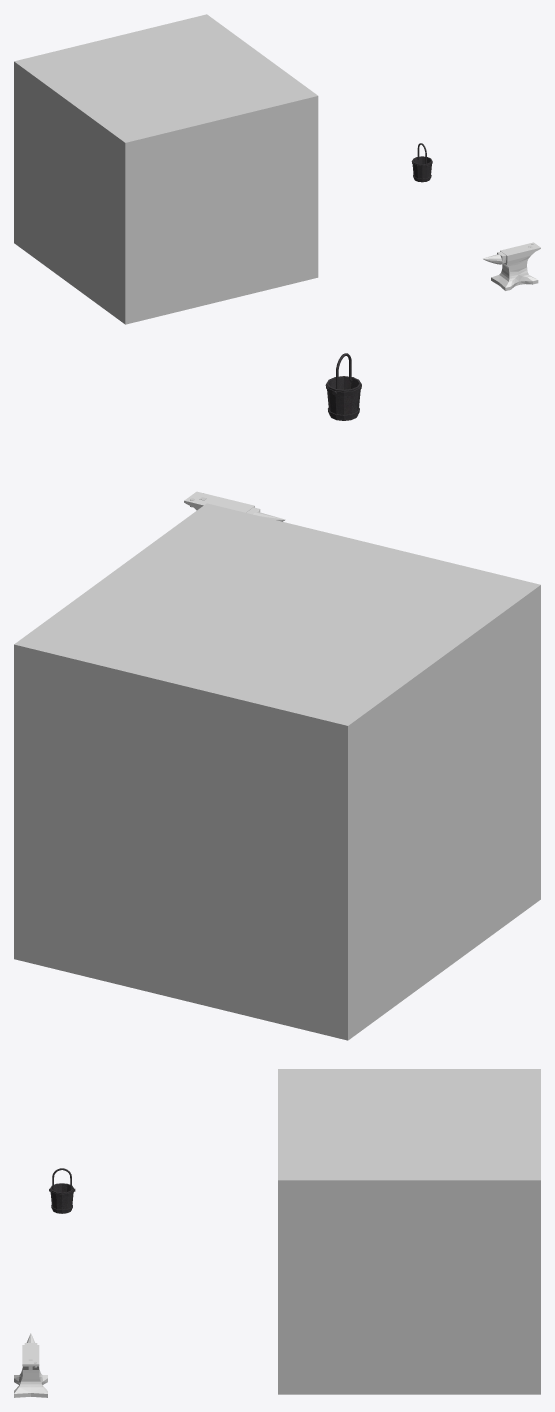
File: bucket.dae
The picture shows the model from 3 angles, top to bottom: view 1: azimuth 30°, elevation 25°; view 2: azimuth 150°, elevation 25°; view 3: azimuth 270°, elevation 25°; orthographic projection. The views are drawn at different scales.
Visible parts, largest first — view 1: Cube_004, Cube_002, Bucket; view 2: Cube_004, Bucket, Cube_002; view 3: Cube_004, Cube_002, Bucket.
Part boxes in pixels (x1,y1,x2,y2): Cube_004: [14, 14, 318, 324]; Cube_002: [483, 242, 540, 290]; Bucket: [411, 143, 432, 182]; Cube_004: [14, 503, 540, 1040]; Bucket: [325, 353, 361, 420]; Cube_002: [184, 491, 284, 521]; Cube_004: [278, 1069, 540, 1394]; Cube_002: [14, 1333, 47, 1397]; Bucket: [49, 1168, 75, 1213].
Bounding box in the file's own units: 3.18 × 4.01 × 1.96.
Materials: 2 (2 with a texture image).
